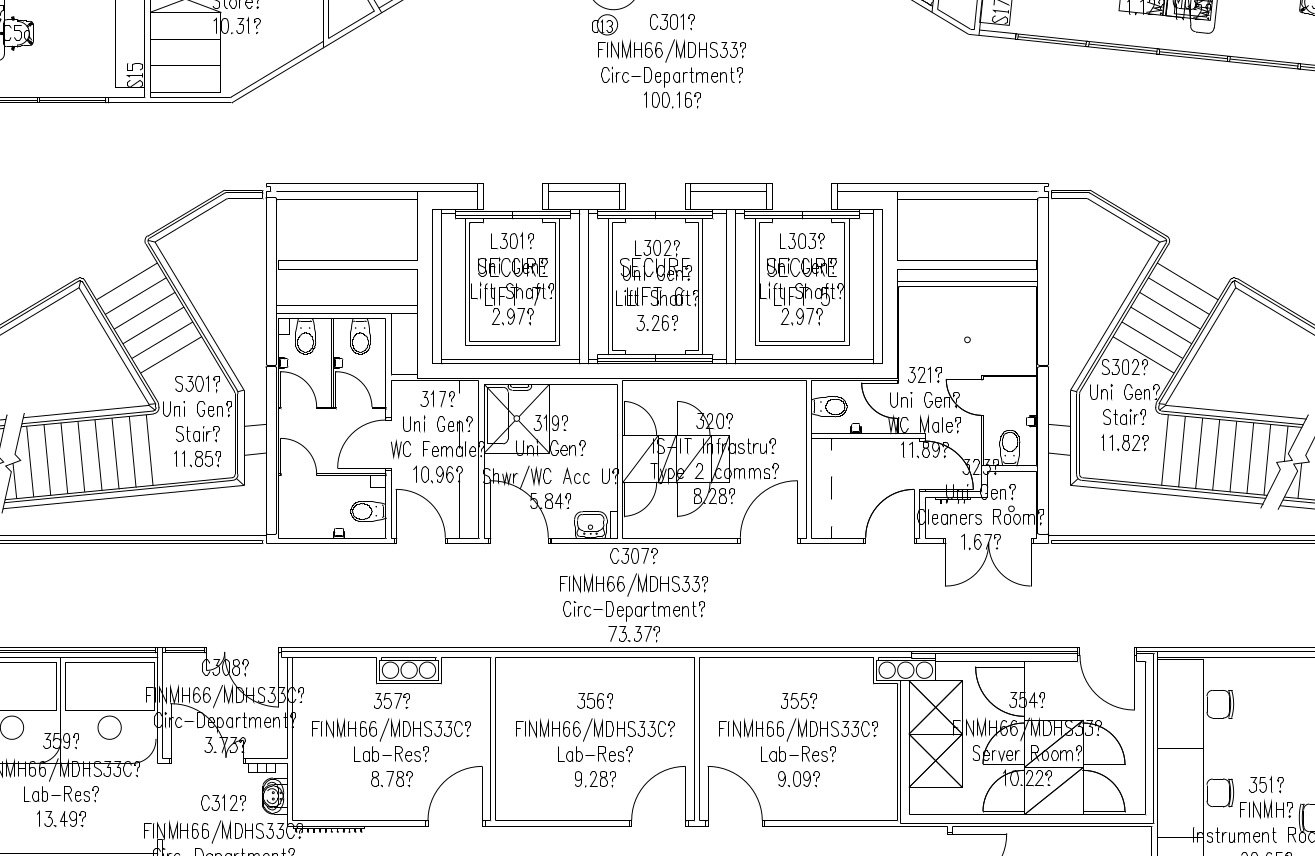door: (1079, 644, 1141, 717), (705, 760, 767, 833), (629, 757, 691, 830), (424, 759, 486, 832), (394, 481, 456, 554), (486, 475, 548, 548), (855, 481, 918, 546), (737, 478, 800, 543), (964, 662, 1025, 721), (334, 416, 390, 471), (943, 534, 991, 594), (987, 534, 1035, 594), (279, 434, 321, 482), (278, 372, 320, 420), (332, 367, 374, 415), (937, 371, 979, 419)
